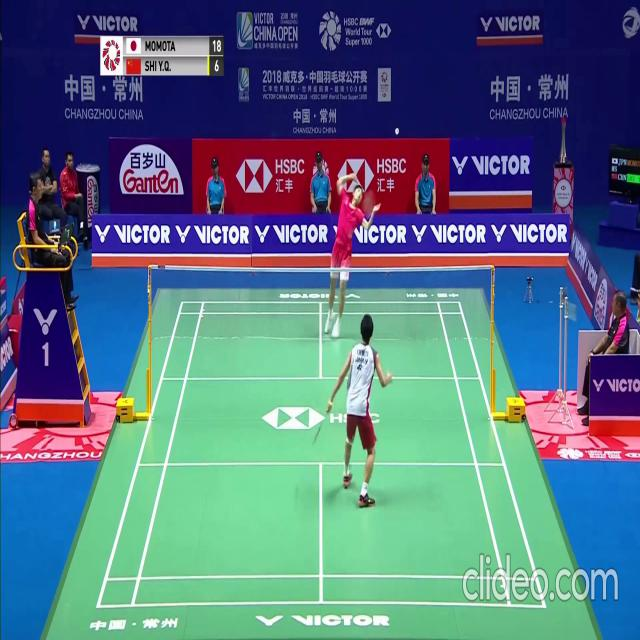Shuttlecock: (396, 128, 400, 135)
